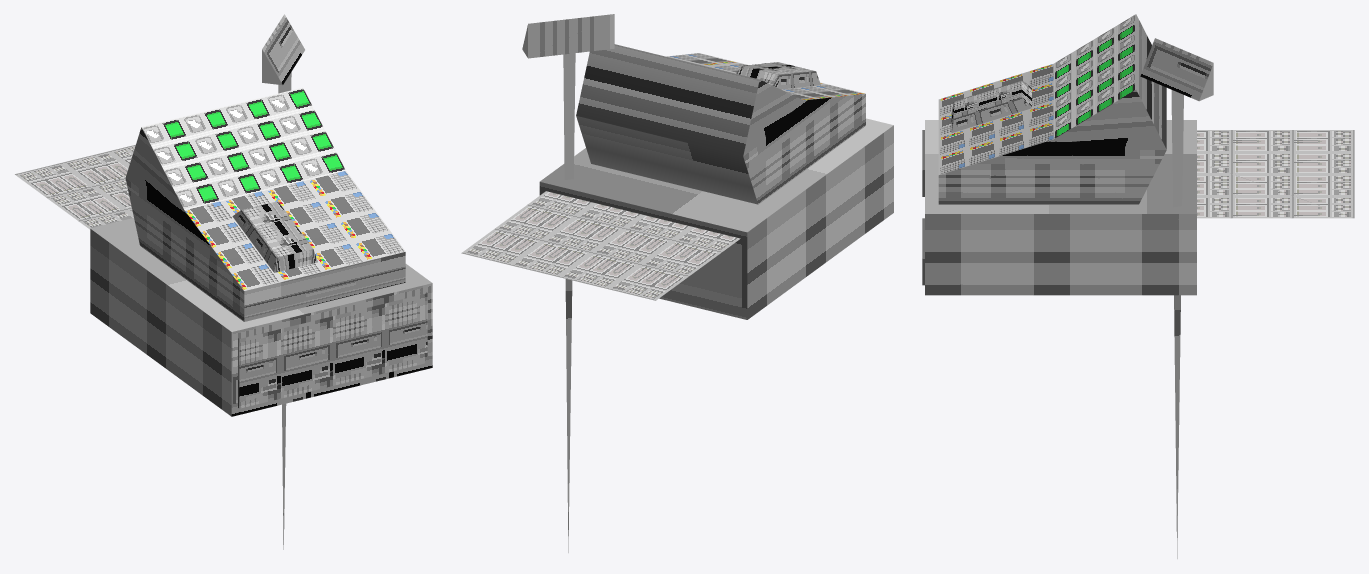
3 views of the same model, side by side, from view 1: azimuth 30°, elevation 25°; view 2: azimuth 150°, elevation 25°; view 3: azimuth 270°, elevation 25° (orthographic). The views are drawn at different scales.
Visible parts, largest first — view 1: 3758kg_sh0_05; view 2: 3758kg_sh0_05; view 3: 3758kg_sh0_05.
Part boxes in pixels (x1=…): 3758kg_sh0_05: x1=15, y1=14, x2=432, y2=549; 3758kg_sh0_05: x1=461, y1=14, x2=893, y2=552; 3758kg_sh0_05: x1=922, y1=14, x2=1354, y2=558.
Bounding box in the file's own units: 0.7522 × 1.75 × 1.36.
4 materials, 4 textured.
